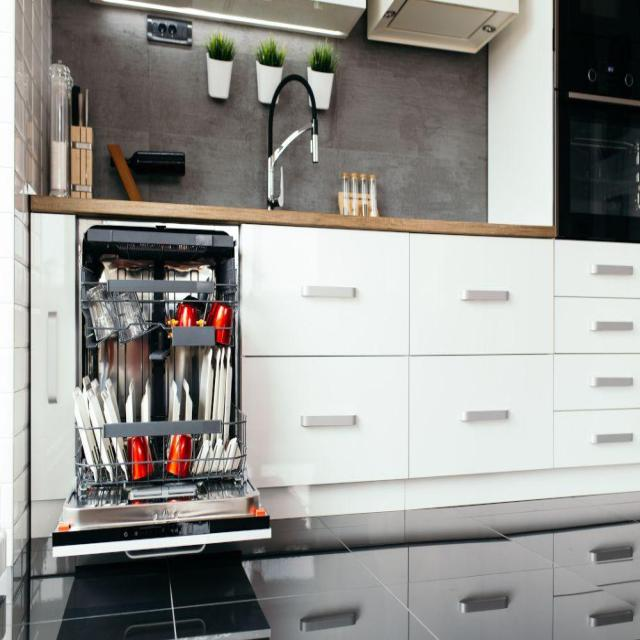dishwasher: (52, 180, 321, 640)
